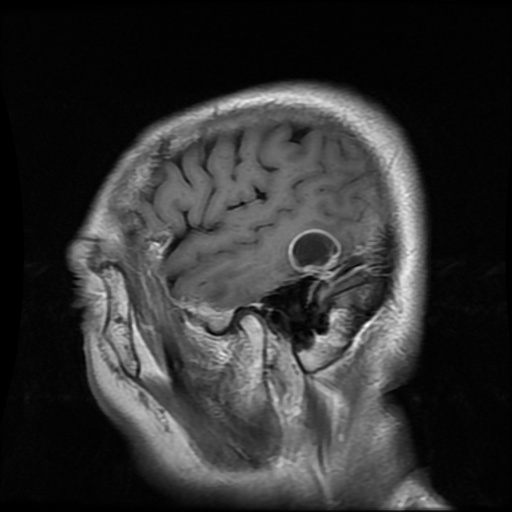glioma: (288, 230, 342, 273)
